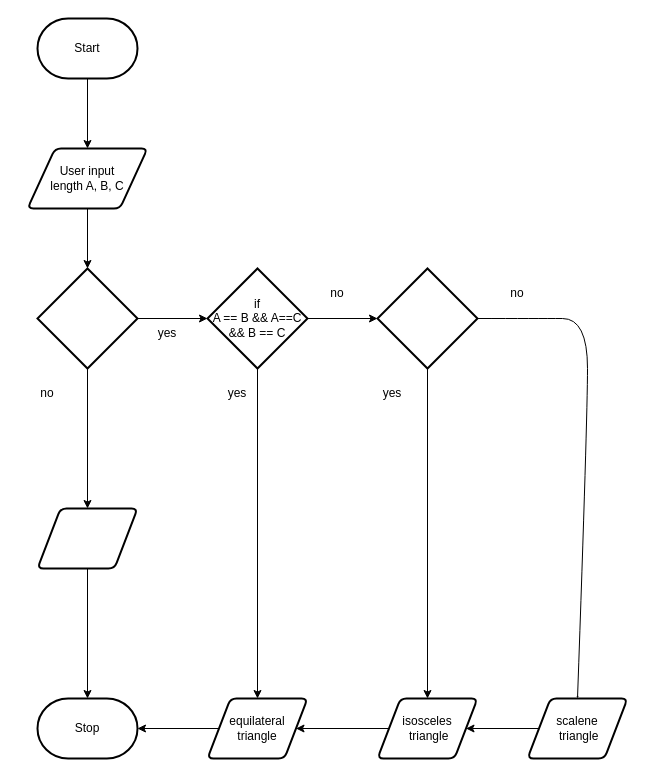
Image size: 645x776. Some labels were removed from this diagram. The shapes that lost their labels are listed below. From the top down, each one's centre as x and y in pixels, then its label:
point (87, 318): If a+b+c=180
point (427, 318): if A == B || A==C || B == C
point (87, 538): not a triangle
